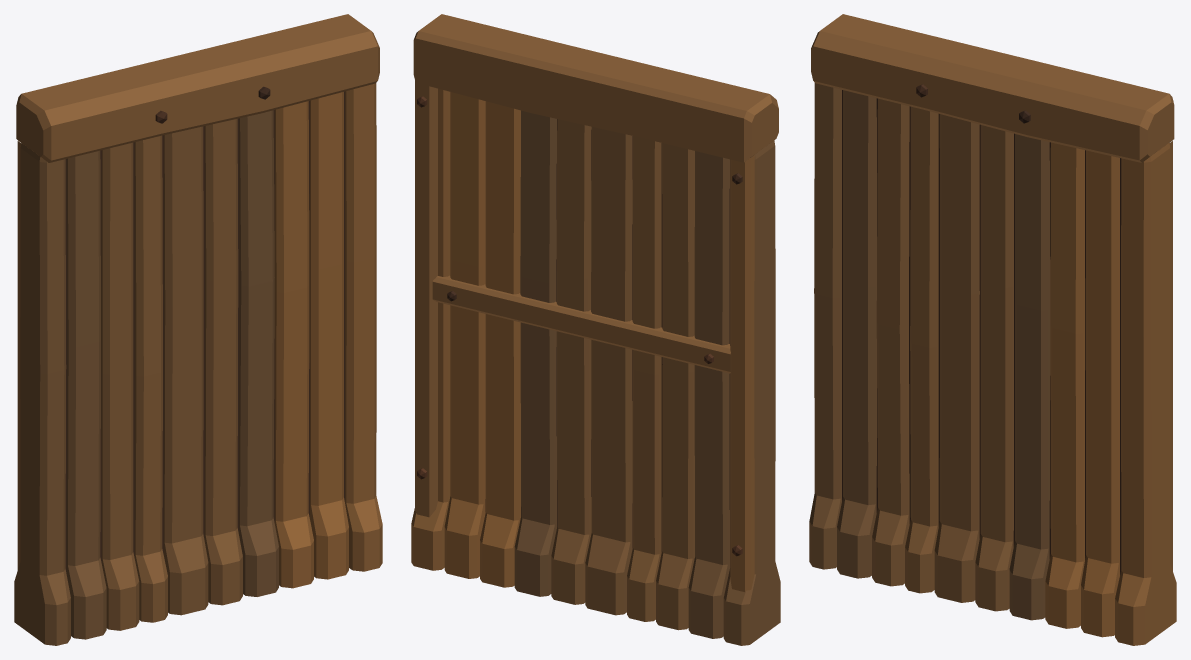
Rendered from terrain-sealing-foundation-skirt-8cd3fc.glb.
The picture shows the model from 3 angles, left to right: view 1: azimuth 30°, elevation 25°; view 2: azimuth 150°, elevation 25°; view 3: azimuth 330°, elevation 25°; orthographic projection.
Visible parts, largest first — view 1: foundation-skirt-body; view 2: foundation-skirt-body; view 3: foundation-skirt-body.
Boxes of the visible parts, x1=… form: foundation-skirt-body: x1=14, y1=14, x2=382, y2=645; foundation-skirt-body: x1=411, y1=14, x2=780, y2=645; foundation-skirt-body: x1=809, y1=14, x2=1176, y2=645.
Bounding box in the file's own units: 1 × 1.5 × 0.1999.
